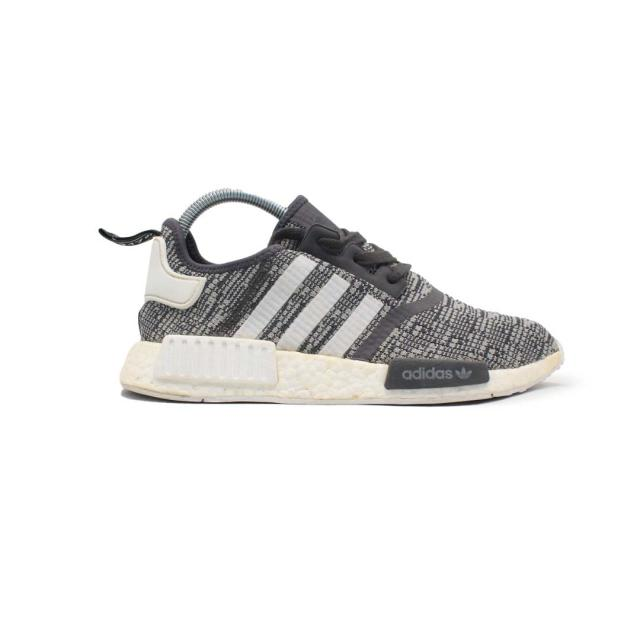heel: (135, 214, 223, 338)
midsole: (121, 337, 564, 408)
uppersole: (215, 195, 561, 370)
